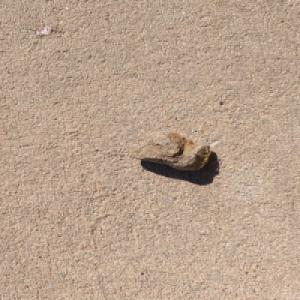Rock: (126, 129, 211, 171)
